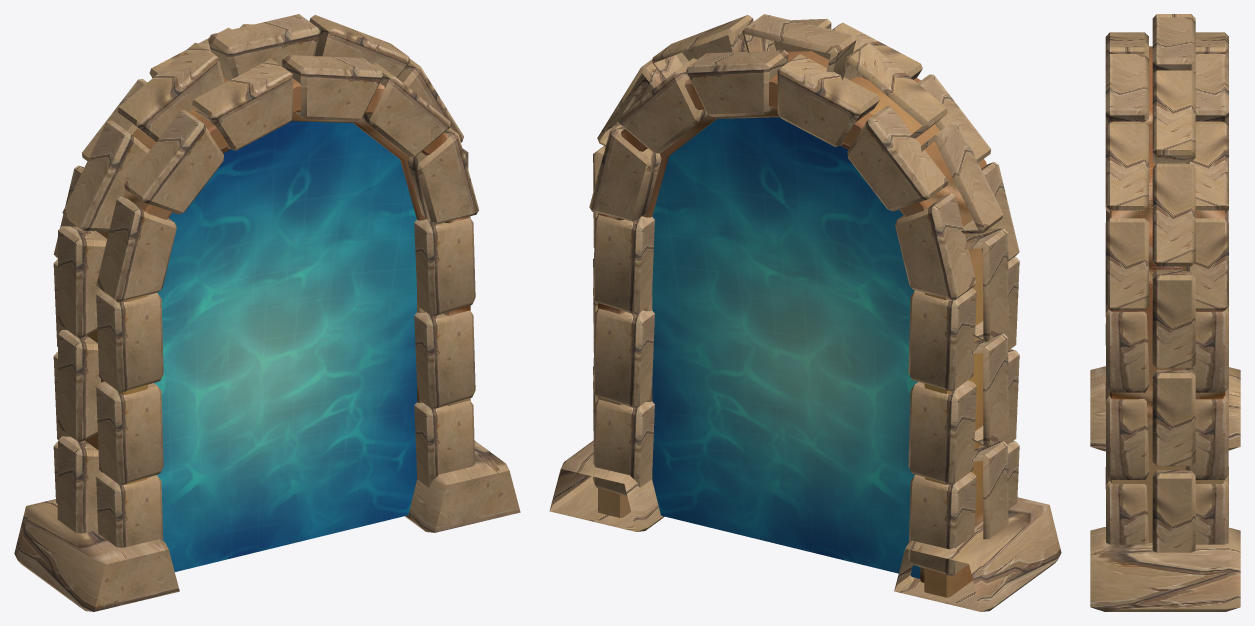
The model's file is Portal.fbx.
The picture shows the model from 3 angles, left to right: view 1: azimuth 30°, elevation 25°; view 2: azimuth 150°, elevation 25°; view 3: azimuth 270°, elevation 25°; orthographic projection. The views are drawn at different scales.
Parts seen in each view (by area): view 1: Portal; view 2: Portal; view 3: Portal.
Part boxes in pixels (x1,y1,x2,y2): Portal: [14, 14, 520, 611]; Portal: [549, 14, 1061, 611]; Portal: [1090, 14, 1240, 611].
Size of the model in its own units: 659 by 731 by 209.
1 material, 1 textured.
